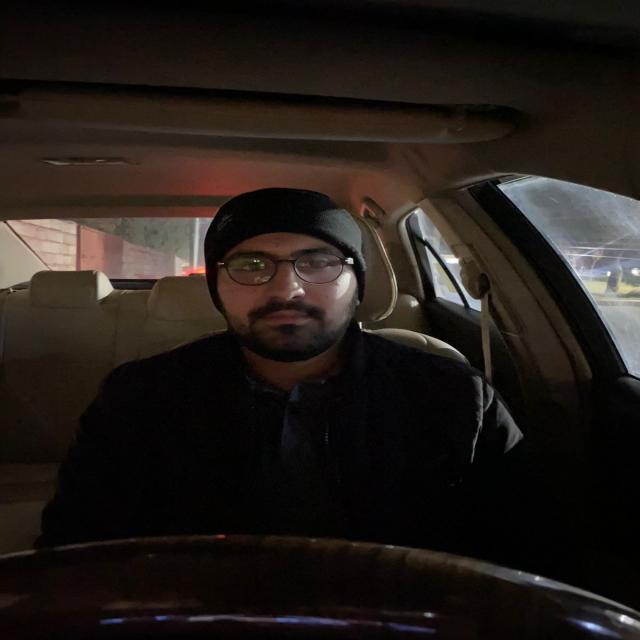person: (194, 170, 388, 374)
